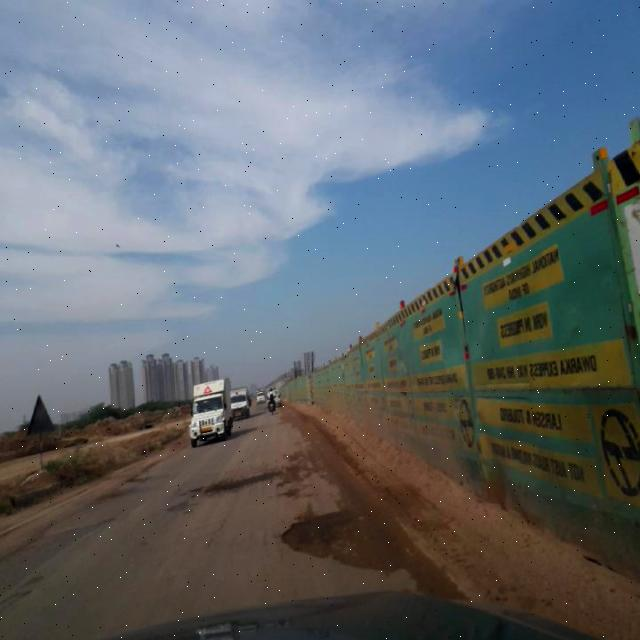D40: (276, 502, 421, 570), (187, 460, 313, 492)
